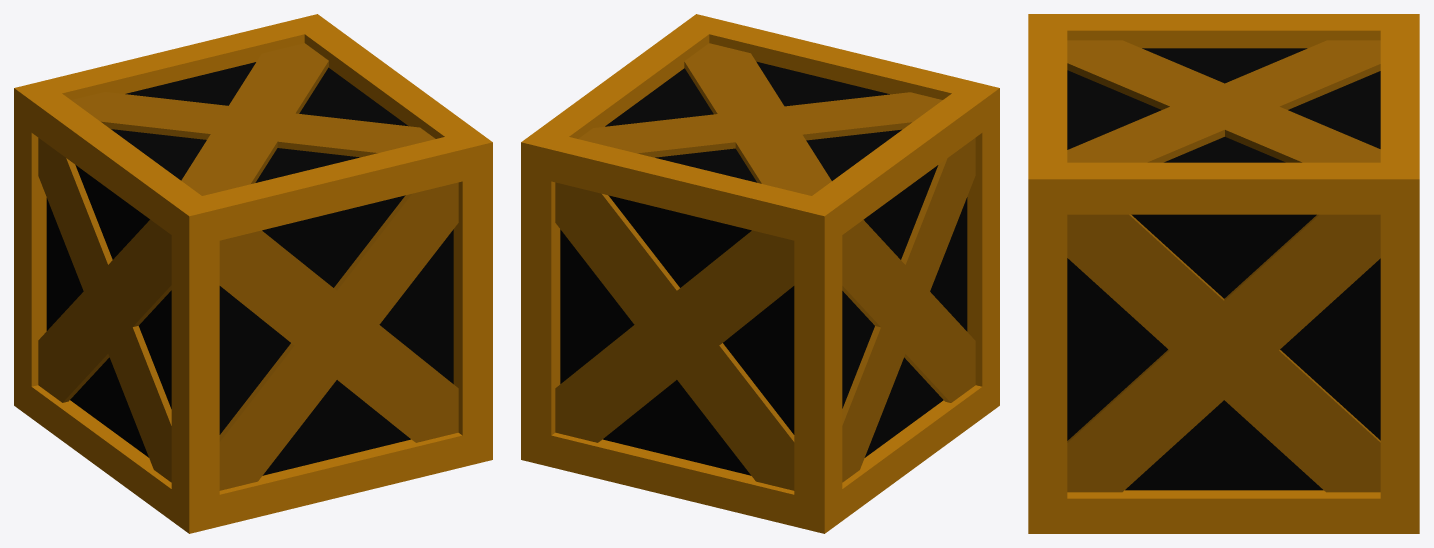
The model's file is crate.fbx.
The picture shows the model from 3 angles, left to right: view 1: azimuth 30°, elevation 25°; view 2: azimuth 150°, elevation 25°; view 3: azimuth 270°, elevation 25°; orthographic projection. The views are drawn at different scales.
Visible parts, largest first — view 1: Cube.001, box.x.2, box.x, box.x.3; view 2: Cube.001, box.x.2, box.x, box.x.3; view 3: Cube.001, box.x, box.x.3.
Part boxes in pixels (x1,y1,x2,y2): Cube.001: [14, 14, 492, 533]; box.x.2: [219, 182, 458, 490]; box.x: [38, 138, 171, 482]; box.x.3: [71, 43, 435, 195]; Cube.001: [521, 14, 999, 533]; box.x.2: [555, 182, 794, 490]; box.x: [842, 138, 975, 482]; box.x.3: [578, 43, 942, 195]; Cube.001: [1028, 14, 1419, 533]; box.x: [1067, 214, 1380, 492]; box.x.3: [1067, 40, 1380, 162].
Bounding box in the file's own units: 200 × 200 × 200.
